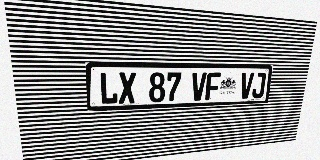7: (165, 72, 182, 102)
8: (149, 72, 166, 103)
F: (205, 72, 221, 100)
J: (251, 73, 266, 98)
L: (99, 72, 118, 105)
V: (191, 72, 207, 101), (239, 73, 254, 99)
X: (118, 72, 136, 104)
